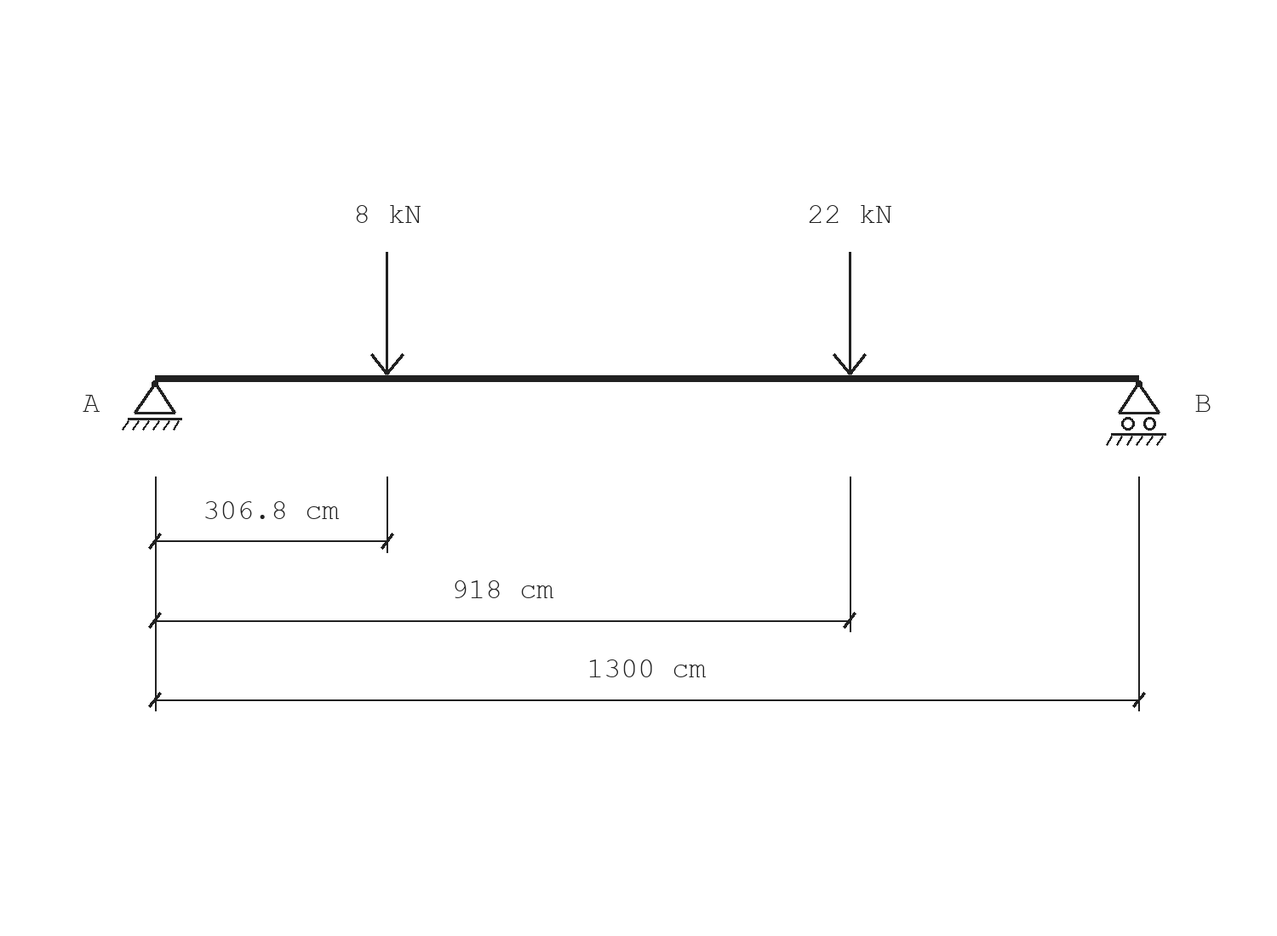pin_support: (122, 380, 182, 431)
point_load: (370, 252, 404, 375), (833, 252, 867, 375)
roller_support: (1106, 380, 1166, 446)
